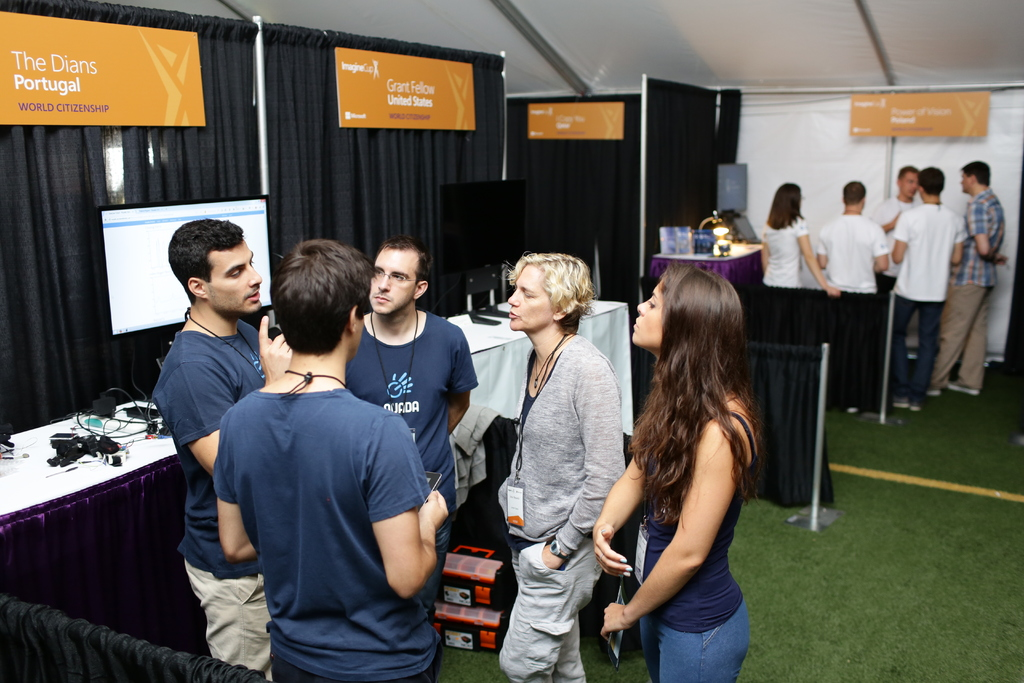Footwear: (947, 378, 984, 393), (891, 395, 911, 409), (927, 384, 942, 396), (908, 400, 919, 415)
